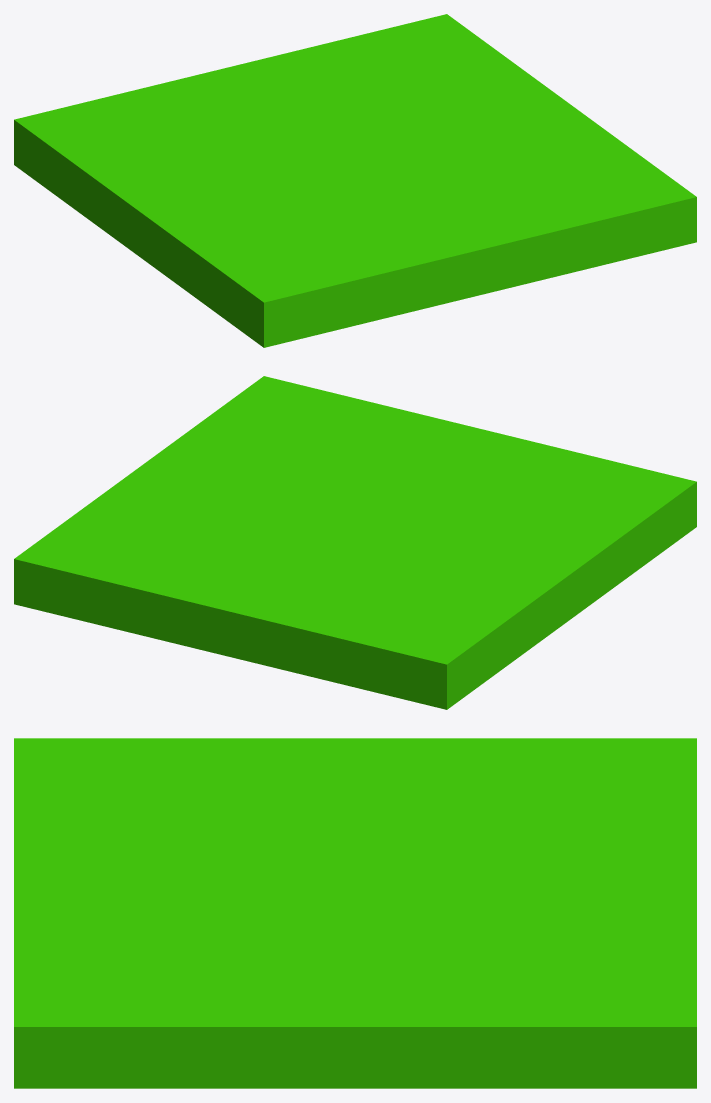
The model's file is island_terrain.fbx.
3 views of the same model, one above another, from view 1: azimuth 30°, elevation 25°; view 2: azimuth 150°, elevation 25°; view 3: azimuth 270°, elevation 25° (orthographic). The views are drawn at different scales.
Parts seen in each view (by area): view 1: Box001; view 2: Box001; view 3: Box001.
Boxes of the visible parts, x1,y1,x2,y2 form: Box001: (14, 14, 696, 347); Box001: (14, 376, 696, 709); Box001: (14, 738, 696, 1088).
Bounding box in the file's own units: 400 × 40 × 400.
